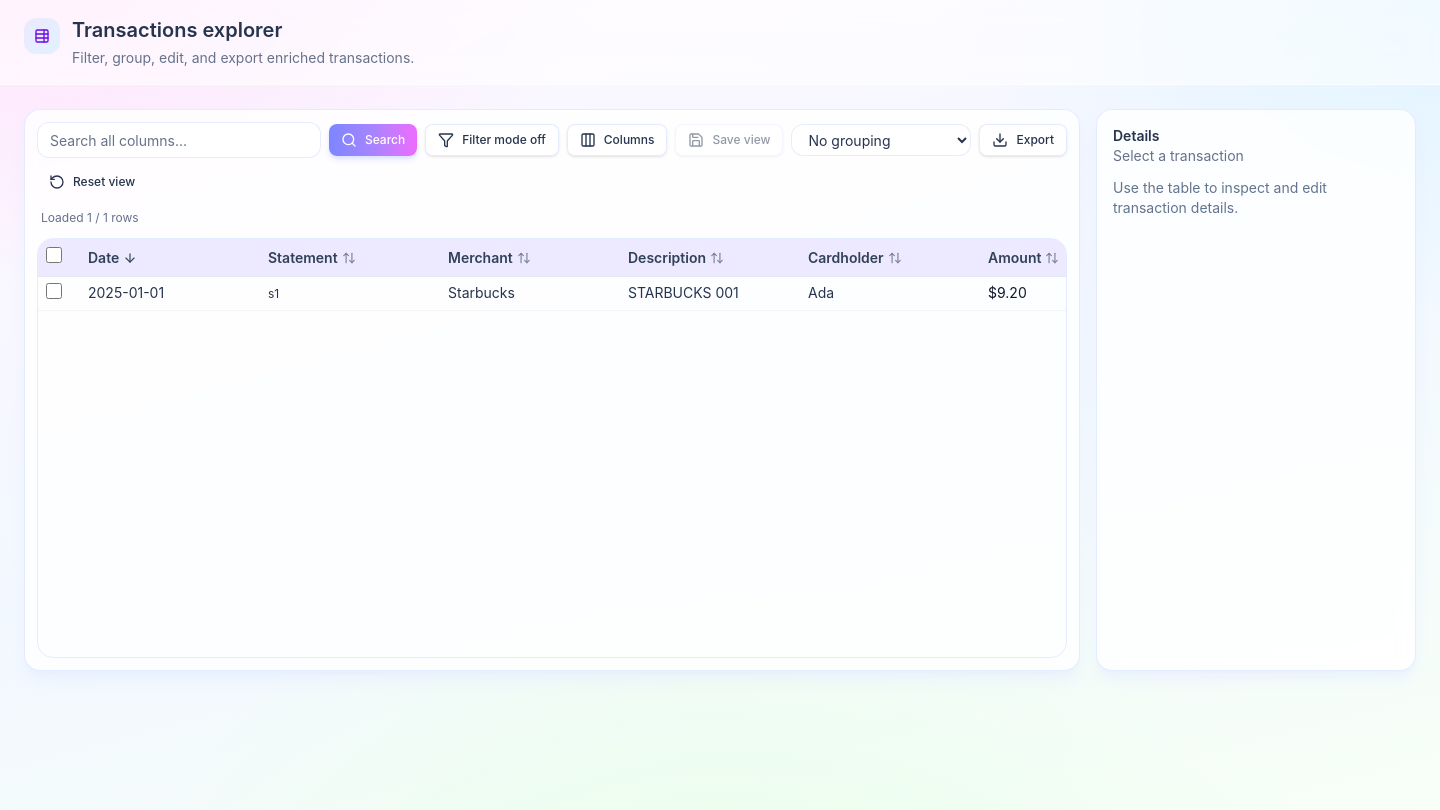
Test: ui flows › shows bulk actions only after selecting rows
Expected: the text "Bulk actions (1)" is not shown
What coordinates should you click on to do the following:
click the checkbox named "Select row"
I would click on:
 (54, 291)
Its box is [46,283,62,299].
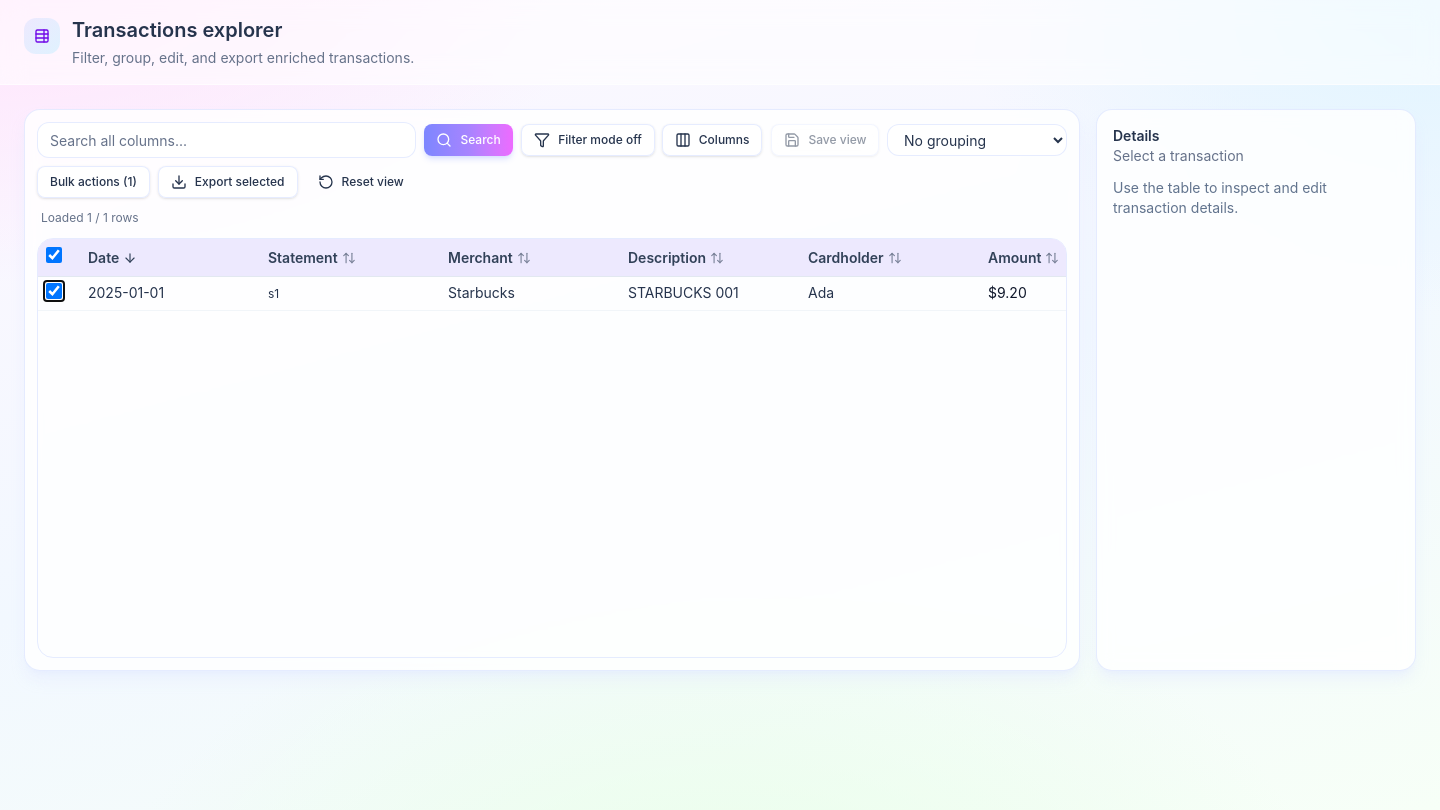
Now the button "Bulk actions (1)" is shown, box [37,166,150,198]
